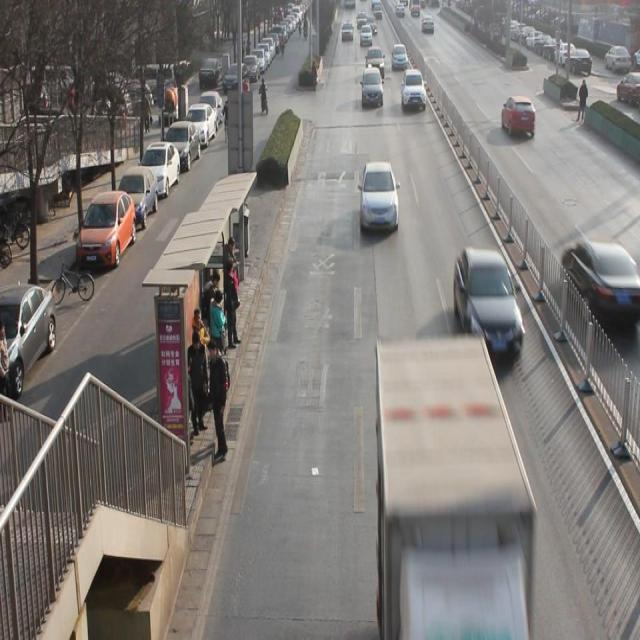bus: (373, 342, 528, 630)
car: (456, 247, 524, 363), (562, 234, 640, 330), (359, 163, 398, 239), (502, 96, 536, 134), (402, 72, 427, 113), (360, 67, 383, 108), (390, 39, 410, 75), (366, 45, 385, 75)
